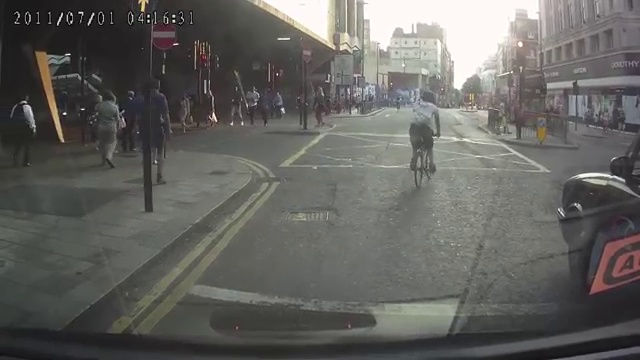cyclist_back: (407, 84, 441, 186)
